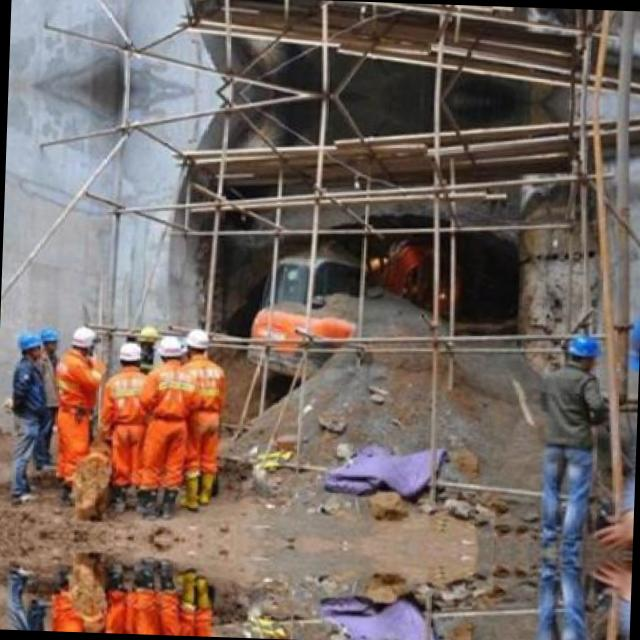helmet: (558, 326, 606, 372), (8, 324, 45, 358), (176, 322, 210, 358), (66, 318, 98, 356), (109, 340, 146, 370), (154, 332, 182, 362), (36, 322, 58, 351)
